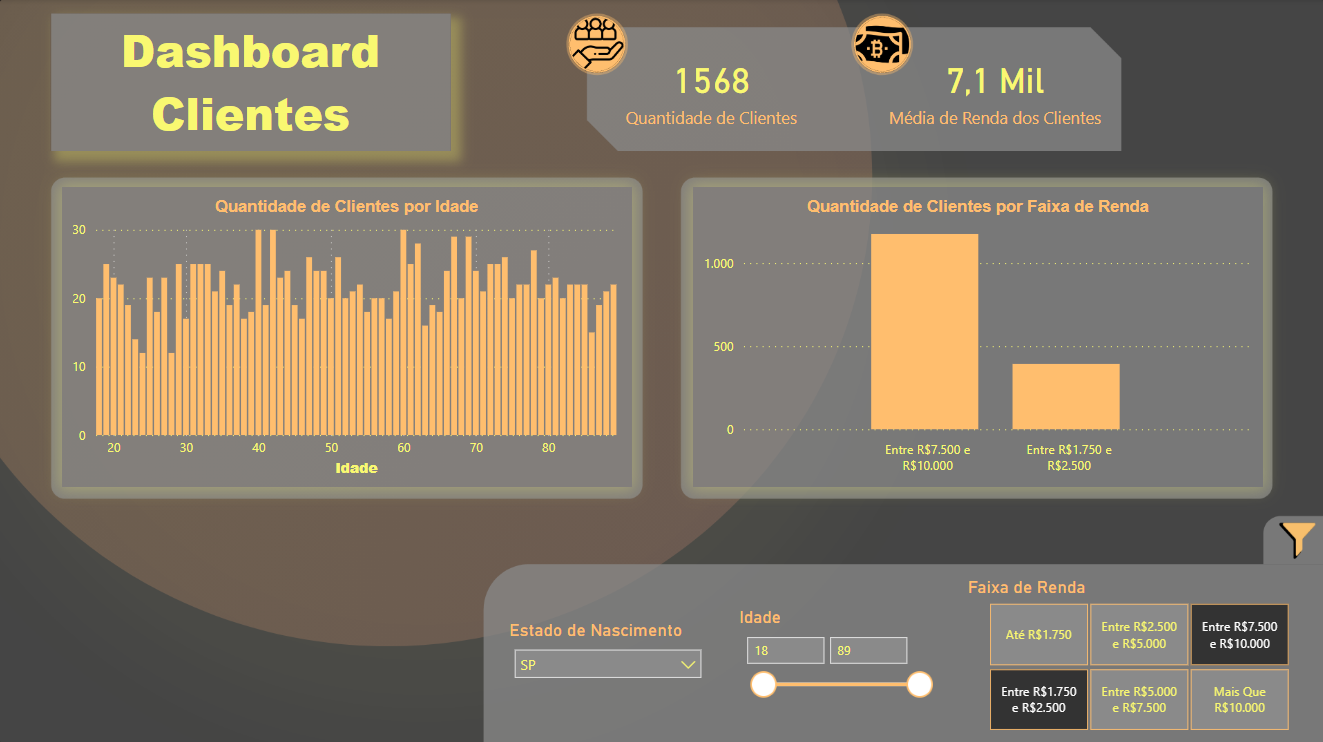

Layout of this report page (visuals, bound fields, positions):
{"tool":"powerbi","page":{"name":"Clientes","canvas":[1280,720],"ordinal":1},"visuals":[{"type":"card","fields":{"Values":["Count(BD - Clientes.cliente_Log)"]},"box":[588.8,37.5,197.5,100],"z":0},{"type":"card","fields":{"Values":["Avg(BD - Clientes.renda)"]},"box":[845,37.5,231.2,100],"z":1000},{"type":"clusteredColumnChart","title":"Quantidade de Clientes por Idade","fields":{"Category":["BD - Clientes.idade"],"Y":["CountNonNull(BD - Clientes.idade)"]},"box":[60,181.2,550,290],"z":2000},{"type":"clusteredColumnChart","title":"Quantidade de Clientes por Faixa de Renda","fields":{"Category":["BD - Clientes.Faixa de Renda"],"Y":["CountNonNull(BD - Clientes.renda)"]},"box":[668.8,181.2,550,290],"z":3000},{"type":"slicer","title":"Idade","fields":{"Values":["BD - Clientes.idade"]},"box":[709.1,581.3,200.2,100.1],"z":4000},{"type":"slicer","title":"Faixa de Renda","fields":{"Values":["BD - Clientes.Faixa de Renda"]},"box":[930,552.5,333.8,160],"z":5000},{"type":"slicer","title":"Estado de Nascimento","fields":{"Values":["BD - Clientes.uf_nascimento"]},"box":[487.2,593.4,200.2,74.8],"z":6000},{"type":"textbox","box":[50,13.8,386.2,133.8],"z":7000}]}

Visuals, with their boxes in screenshot pixels (x1, y1, x2, y2), scaled from the page's 1280x720 canvas onto the 1323x742 screenshot:
card - Count(BD - Clientes.cliente_Log): [x1=609, y1=39, x2=813, y2=142]
card - Avg(BD - Clientes.renda): [x1=873, y1=39, x2=1112, y2=142]
"Quantidade de Clientes por Idade" clusteredColumnChart: [x1=62, y1=187, x2=630, y2=486]
"Quantidade de Clientes por Faixa de Renda" clusteredColumnChart: [x1=691, y1=187, x2=1260, y2=486]
"Idade" slicer: [x1=733, y1=599, x2=940, y2=702]
"Faixa de Renda" slicer: [x1=961, y1=569, x2=1306, y2=734]
"Estado de Nascimento" slicer: [x1=504, y1=612, x2=710, y2=689]
textbox: [x1=52, y1=14, x2=451, y2=152]
